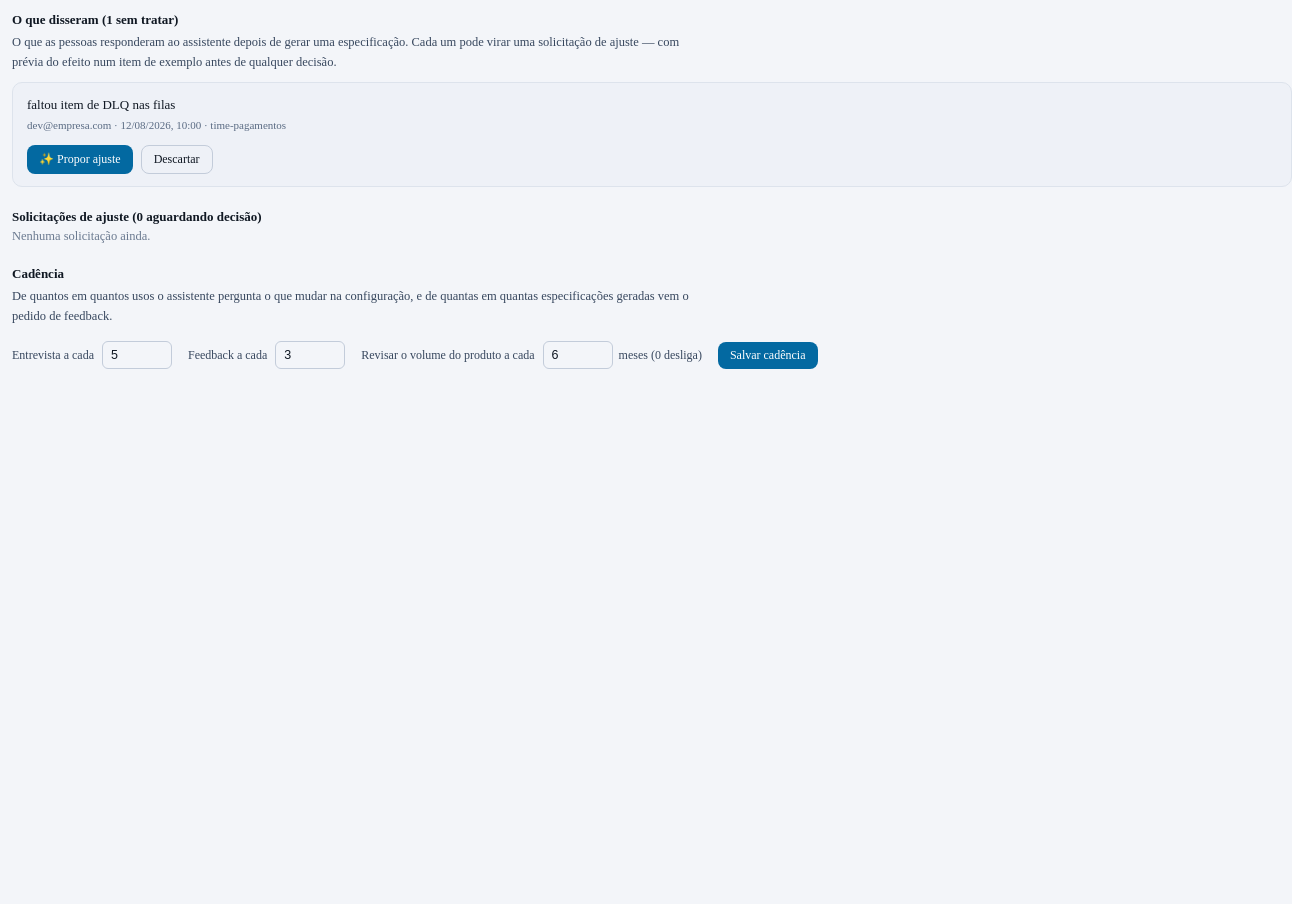
PdcaTab — a jornada do PDCA (SPEC-45) › propor ajuste abre o estúdio, e a prévia mostra a linha ENTRANDO num item de exemplo
The width and height of the screenshot is (1292, 904).
Click the button with test id "propor-f1". click: (80, 159)
box: left=27, top=144, right=133, bottom=174
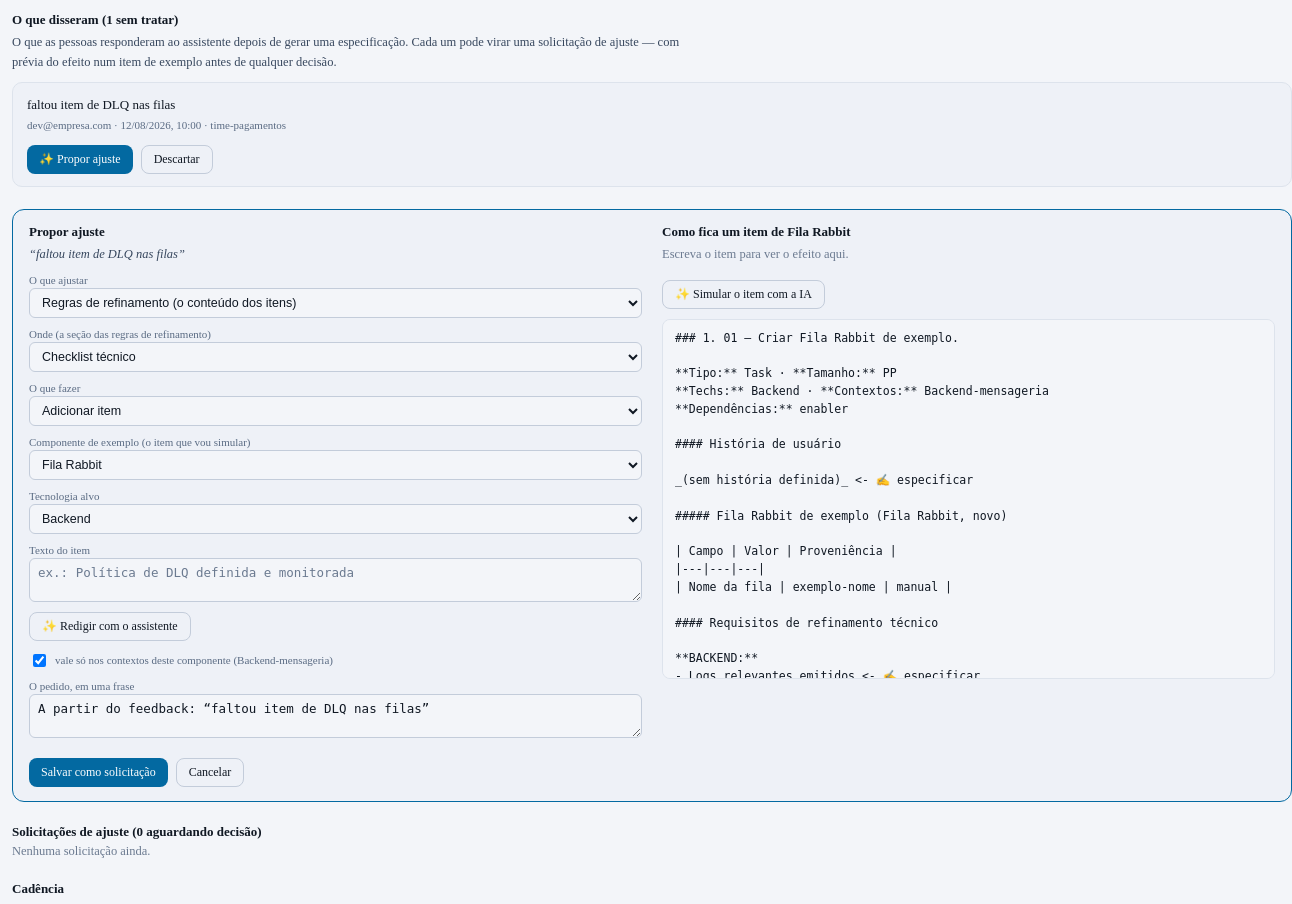
Type "Política de DLQ definida" into the text box named "Texto do item". click: (336, 580)
box: left=29, top=558, right=642, bottom=602
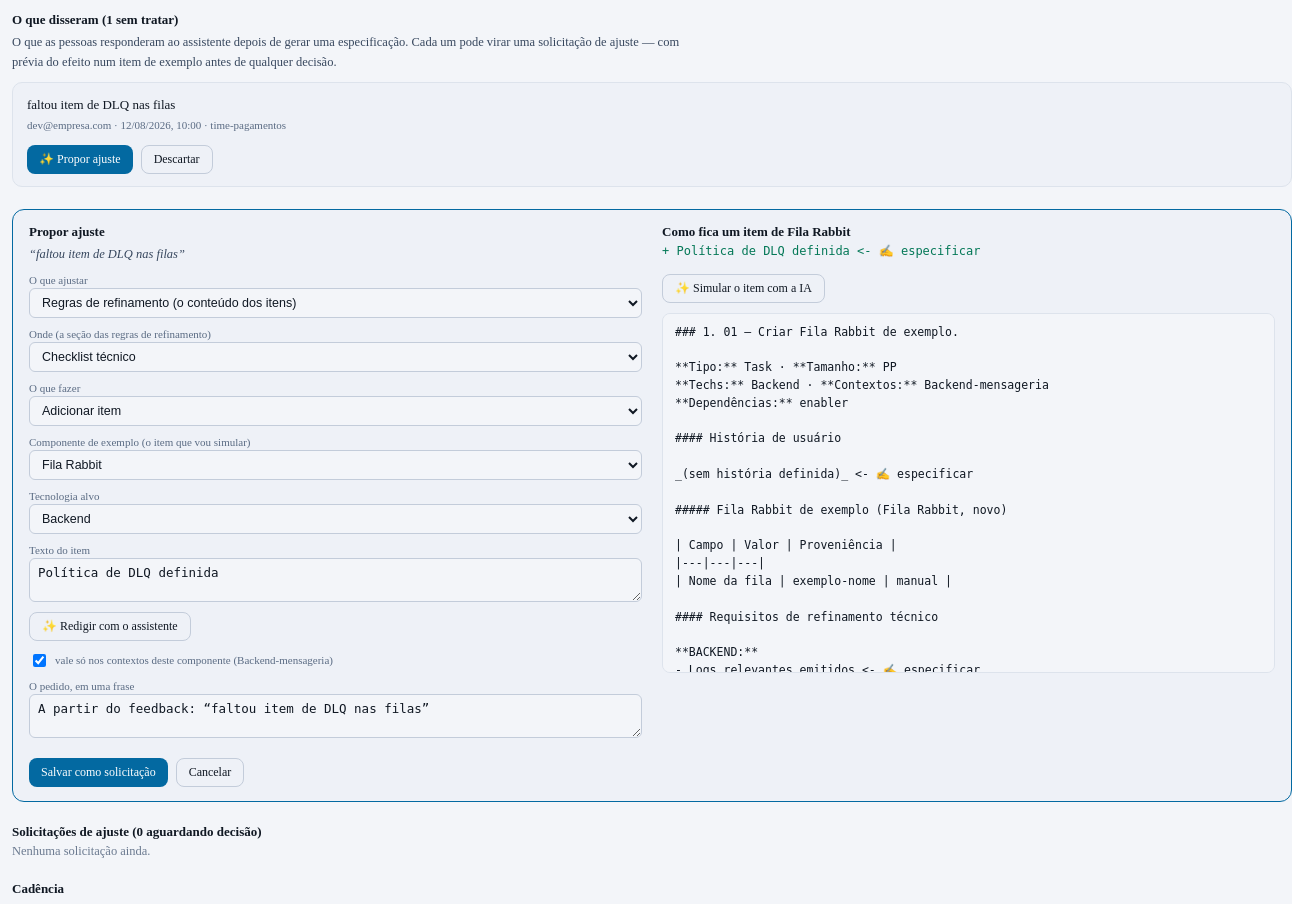
Result: the text with test id "previa-adicionado" shows "Política de DLQ definida" at left=676, top=244, right=980, bottom=258
